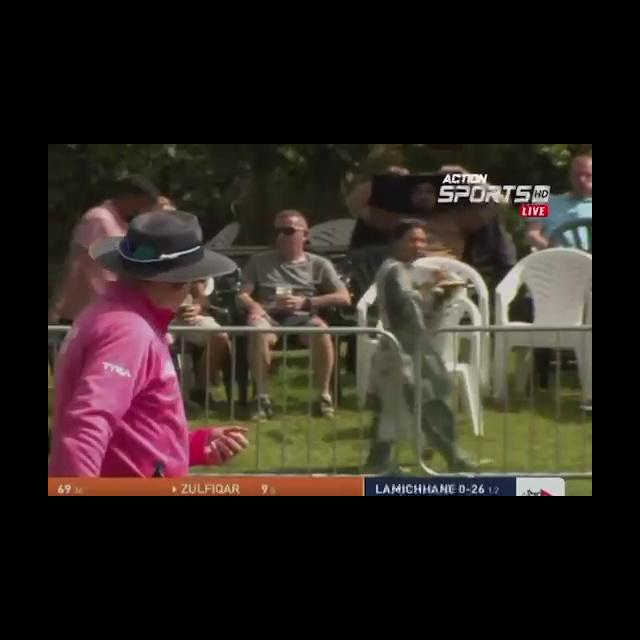umpire: (63, 166, 291, 475)
